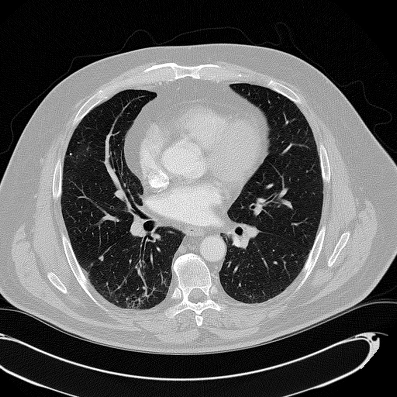nodule: (99, 256, 103, 260)
